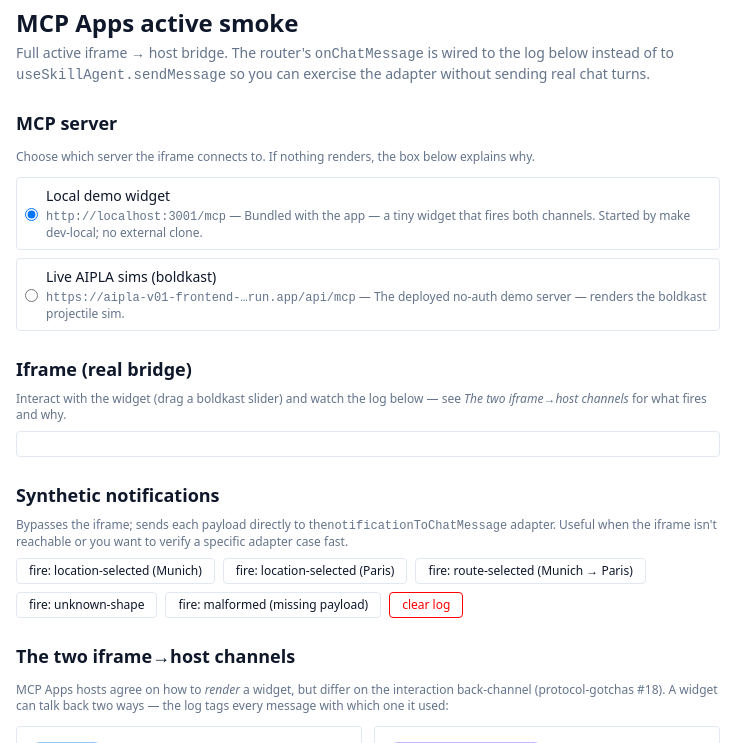
Test: /dev/mcp-apps/active › malformed payload button → adapter returns null without throwing
Click the button "fire: malformed (missing payload)". click: point(273, 605)
box: [166,592,381,618]
(page scrolled)
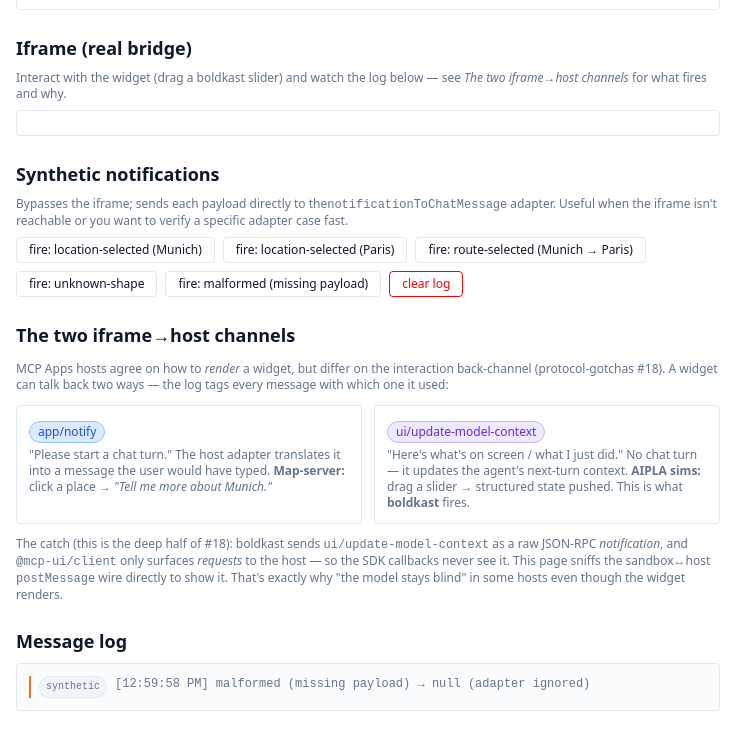
expect the text "null (adapter ignored)" is shown: met, box [432,677,590,691]
